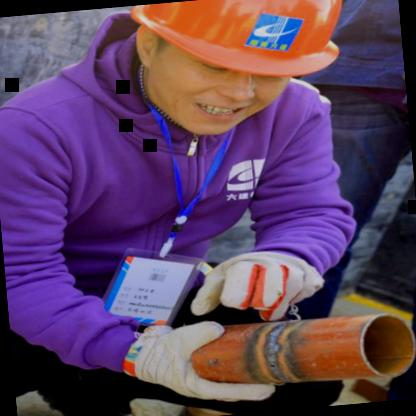helmet: (111, 0, 352, 137)
